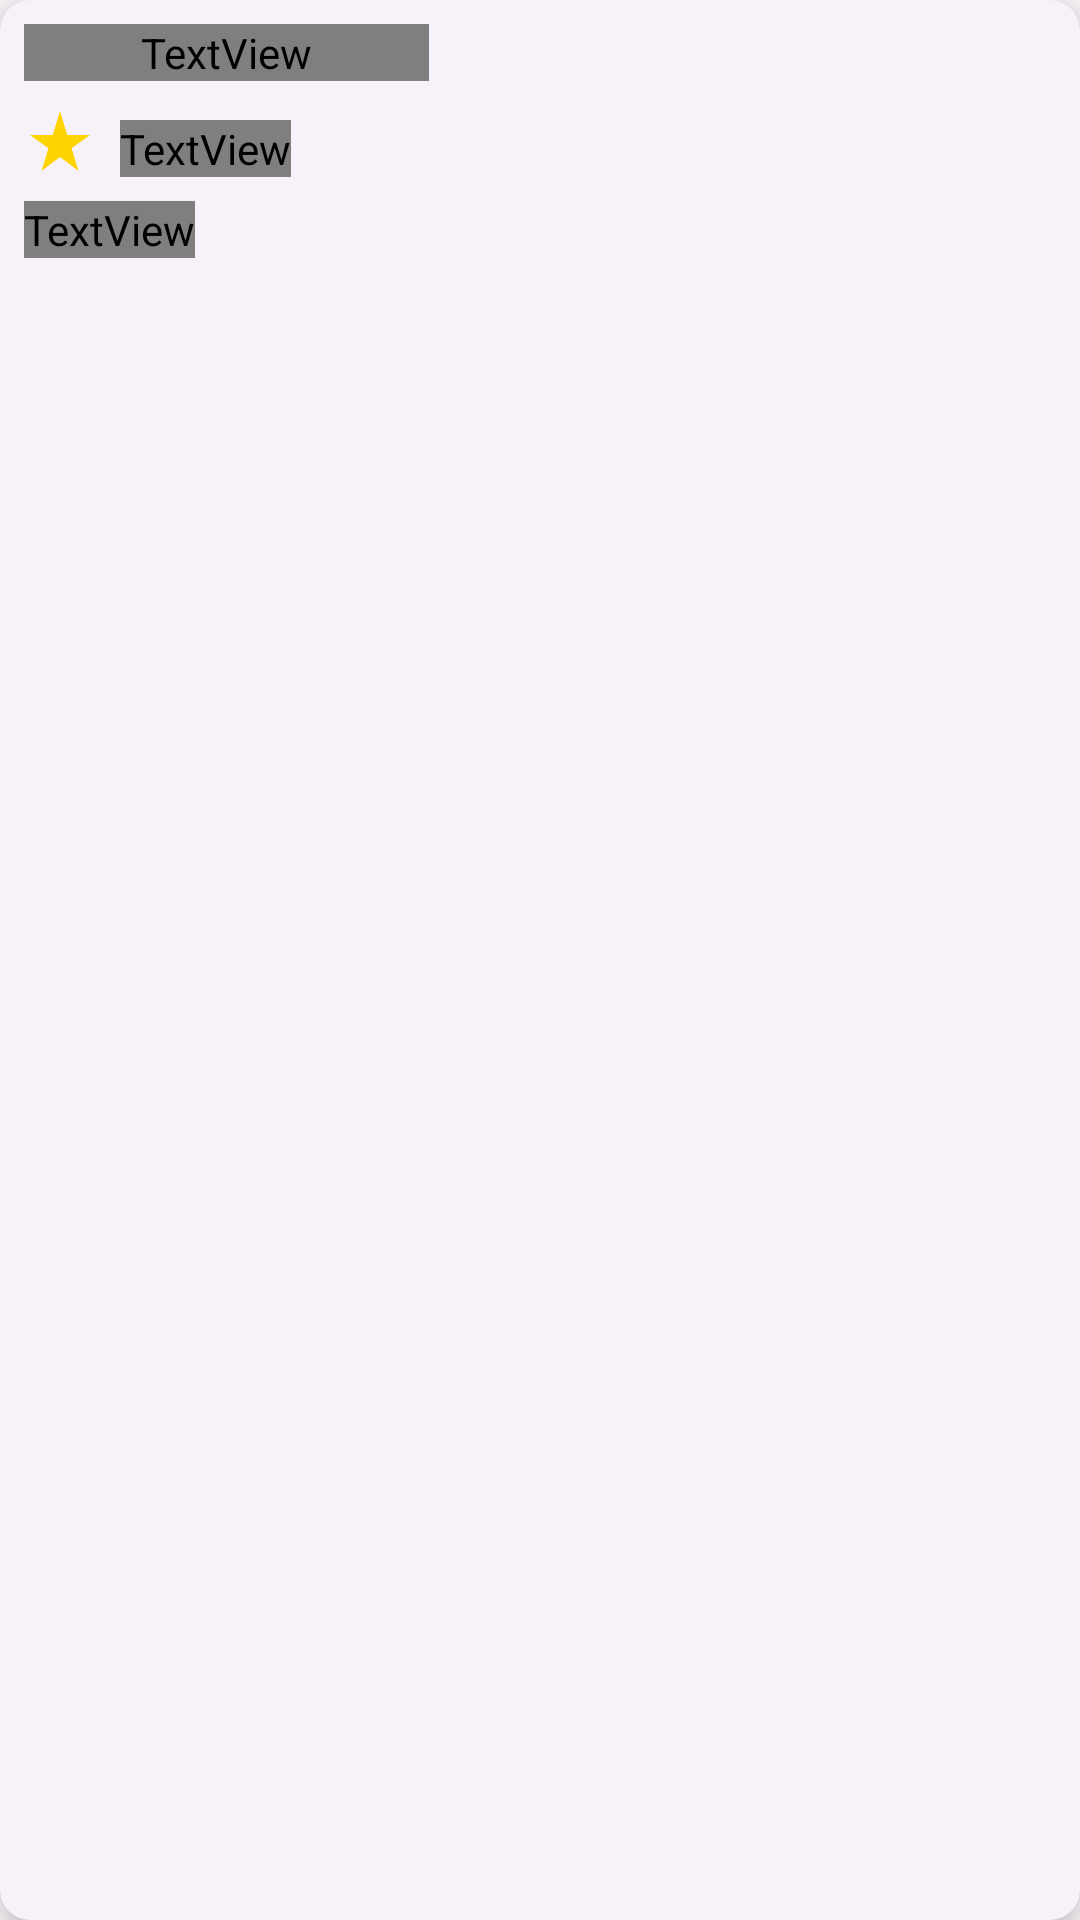

Where to tap for icons on this 1080 × 1920 app screen, as (x,y):
star rate: (60,141)
